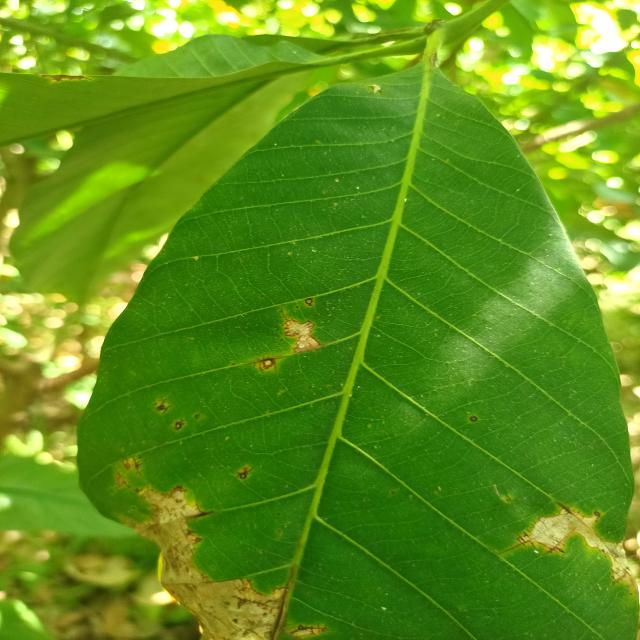Colletotrichum: (469, 415, 478, 423), (239, 472, 248, 479), (305, 298, 313, 305), (175, 422, 182, 430), (194, 414, 201, 419)
Leaf-Blight: (137, 484, 287, 640), (525, 505, 637, 580), (281, 316, 326, 353)
